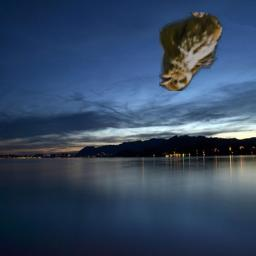Sparrow: (159, 12, 222, 91)
